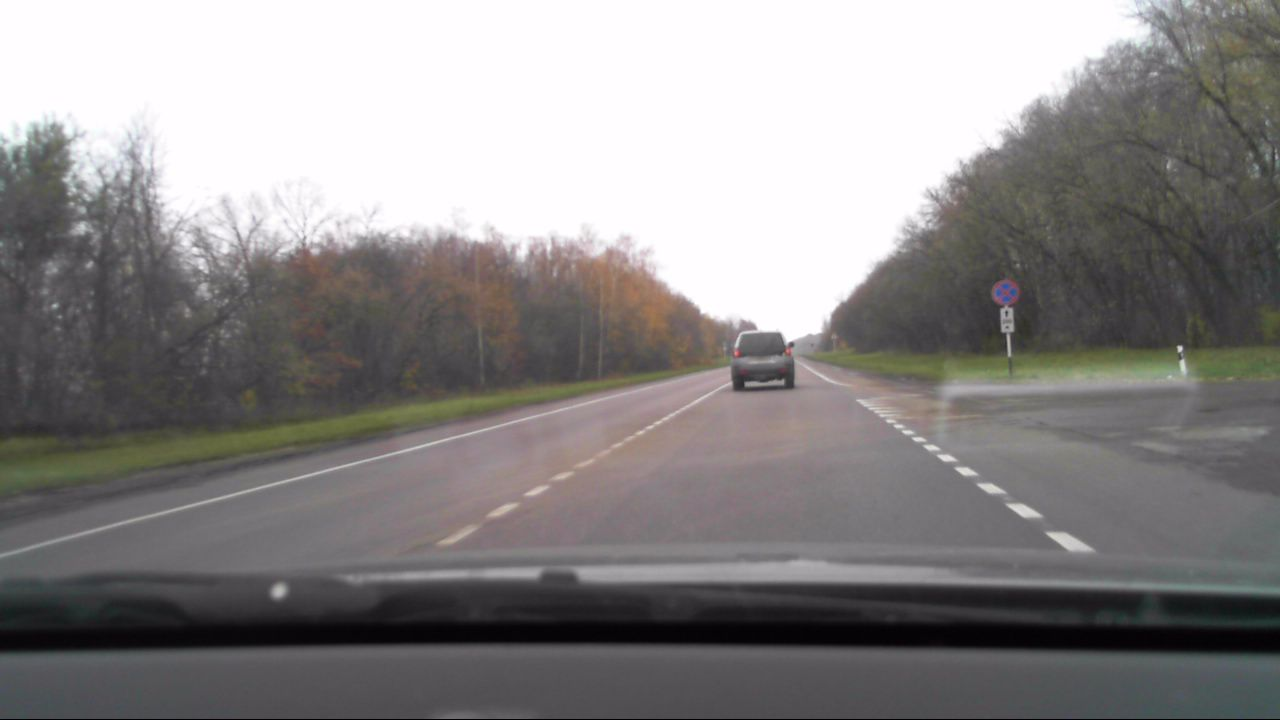No Parking: (990, 280, 1020, 306)
